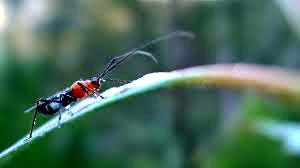Helopeltis-insect: (31, 72, 113, 121)
